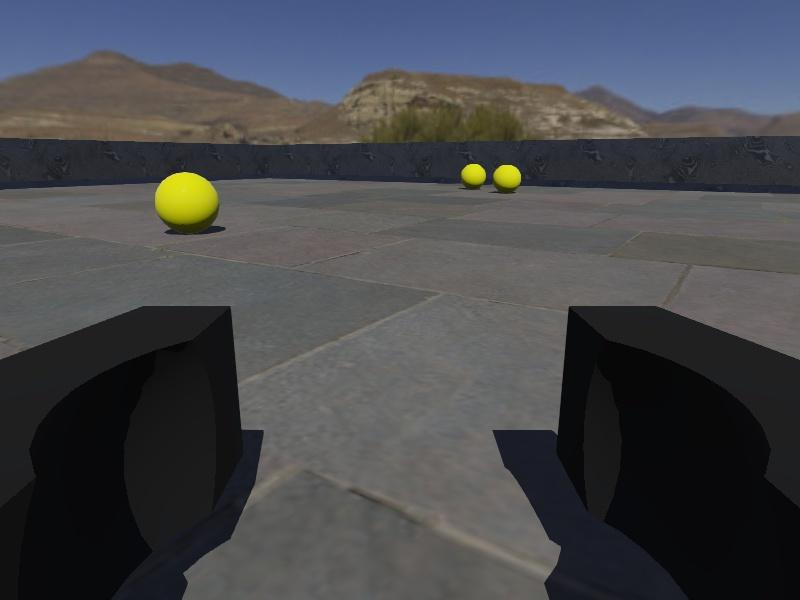yellow ball: (155, 171, 220, 235), (493, 164, 522, 192), (461, 162, 486, 188)
